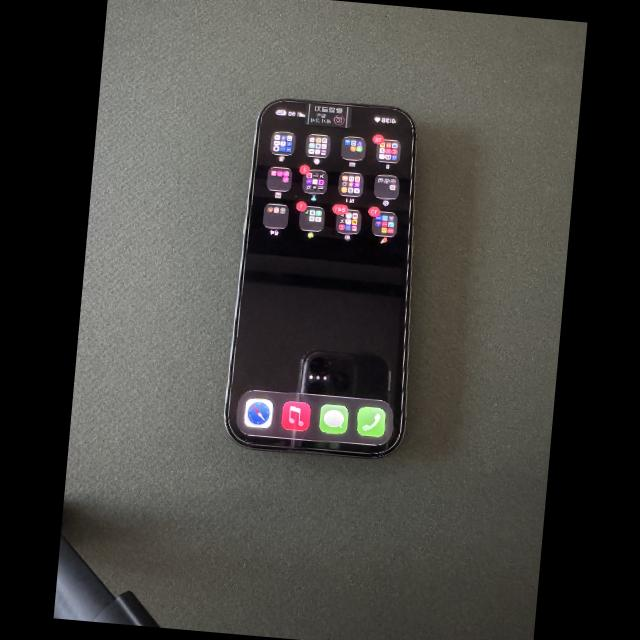phone: (224, 98, 414, 456)
sticker: (304, 103, 352, 128)
